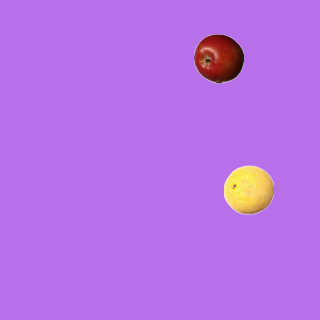Apple Braeburn: (193, 33, 243, 83)
Cantaloupe 1: (223, 164, 273, 214)
